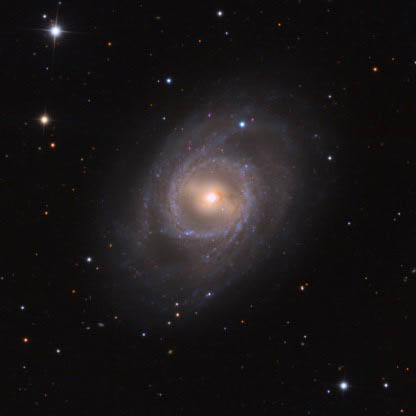Messier 95: (90, 73, 339, 315)
